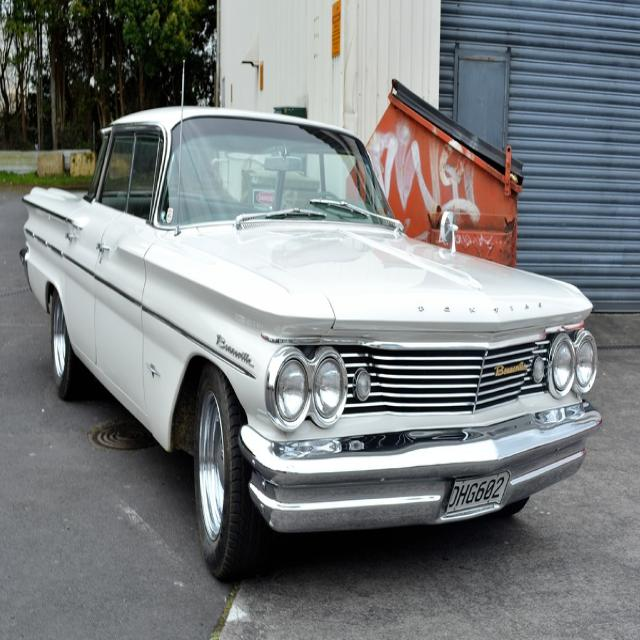car: (13, 58, 601, 578)
